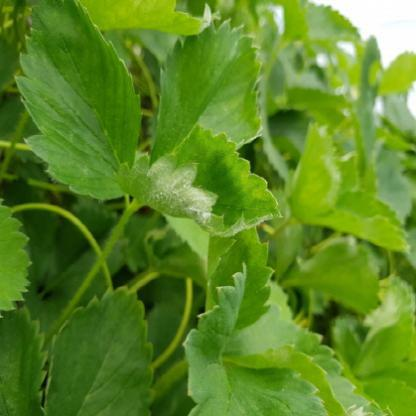Strawberry_Powdery_Mildew_Leaf: (117, 124, 283, 238)
